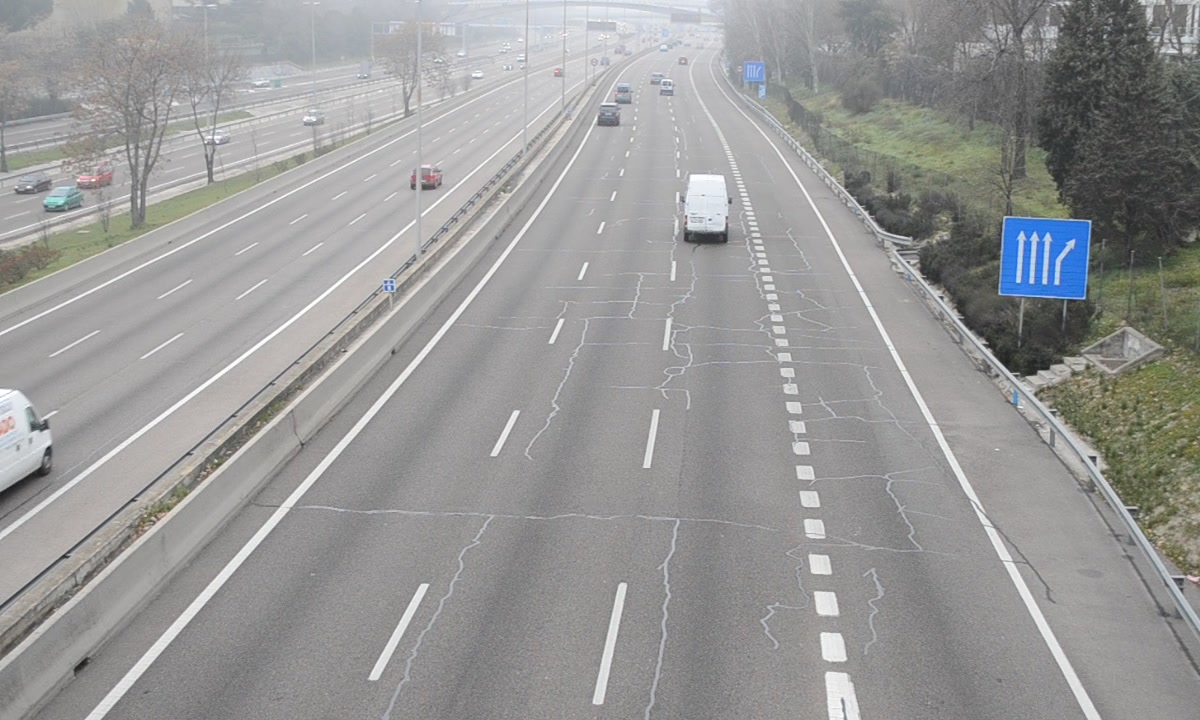car: (597, 102, 620, 127)
van: (682, 173, 731, 240)
